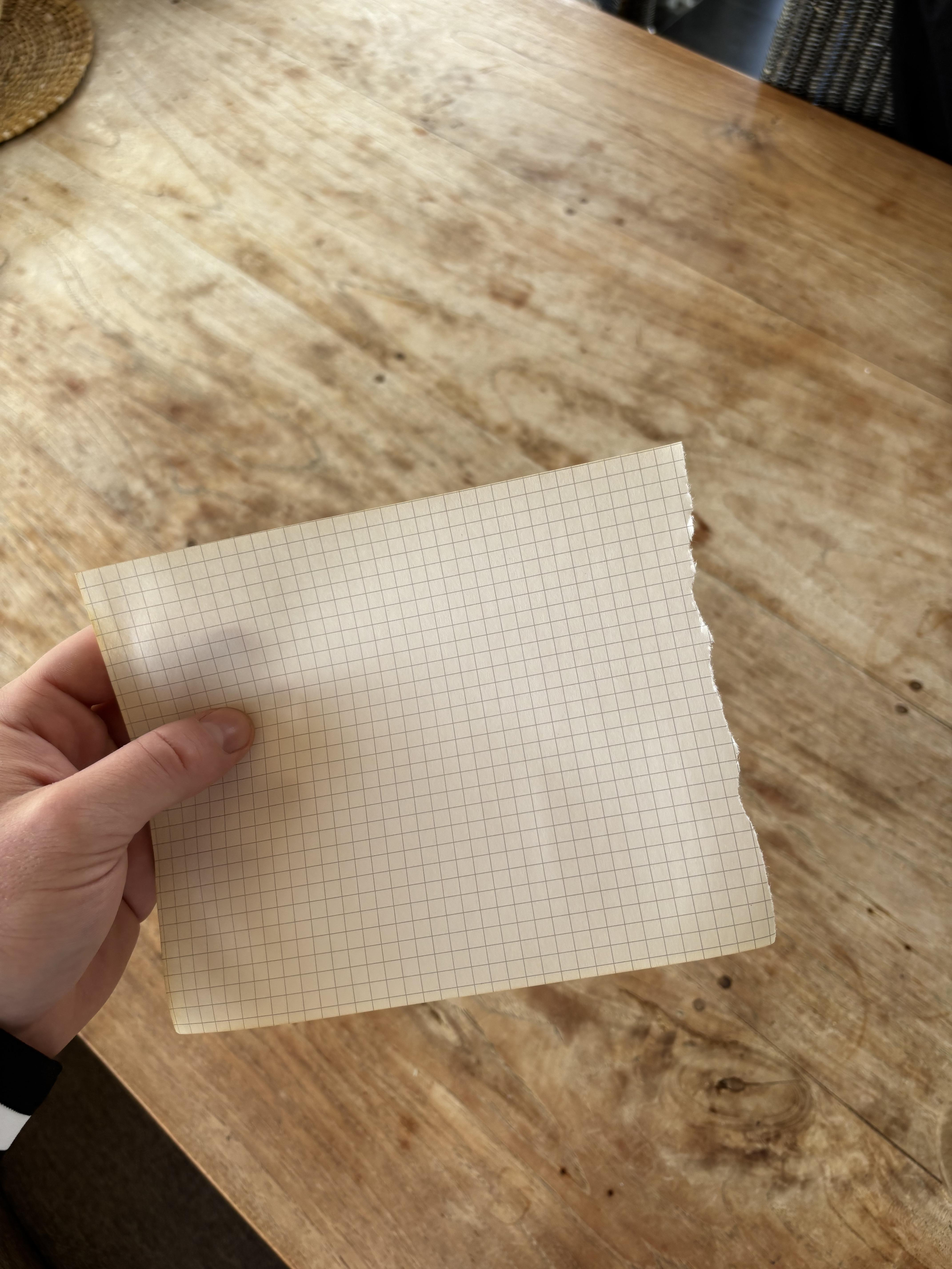Paper: (73, 436, 783, 1037)
